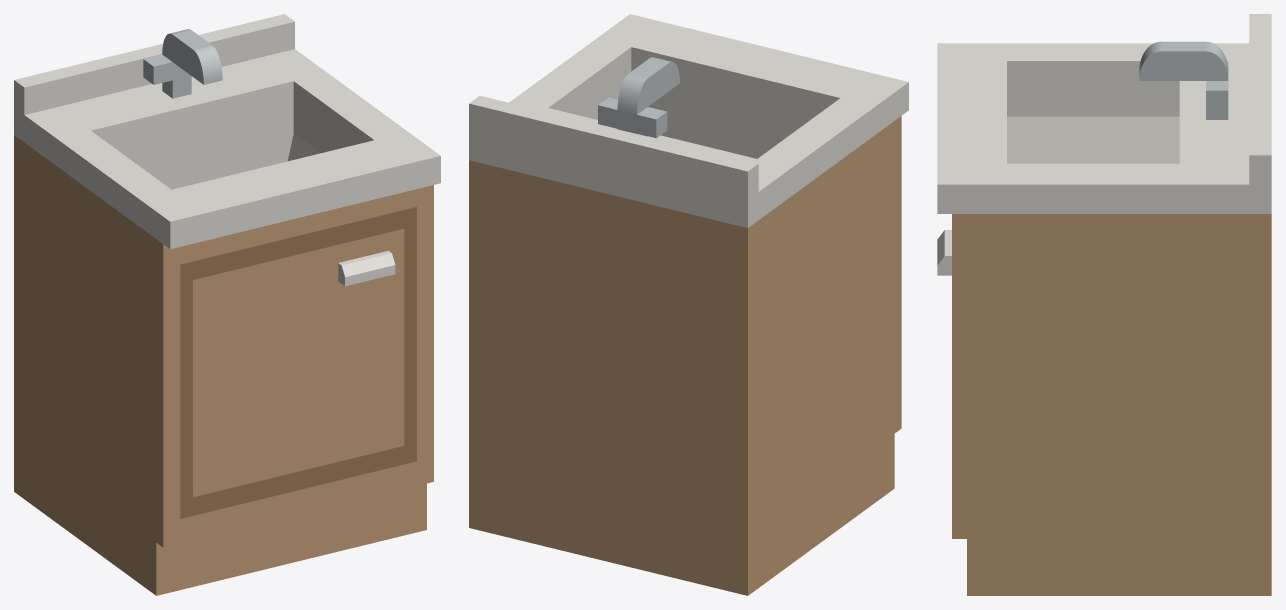
File: kitchen-sink.glb
The picture shows the model from 3 angles, left to right: view 1: azimuth 30°, elevation 25°; view 2: azimuth 150°, elevation 25°; view 3: azimuth 270°, elevation 25°; orthographic projection. The views are drawn at different scales.
Visible parts, largest first — view 1: kitchen-sink; view 2: kitchen-sink; view 3: kitchen-sink.
Part boxes in pixels (x1=…): kitchen-sink: x1=14, y1=14, x2=440, y2=595; kitchen-sink: x1=469, y1=14, x2=908, y2=595; kitchen-sink: x1=937, y1=14, x2=1271, y2=595.
Size of the model in its own units: 0.6 by 0.95 by 0.6.
